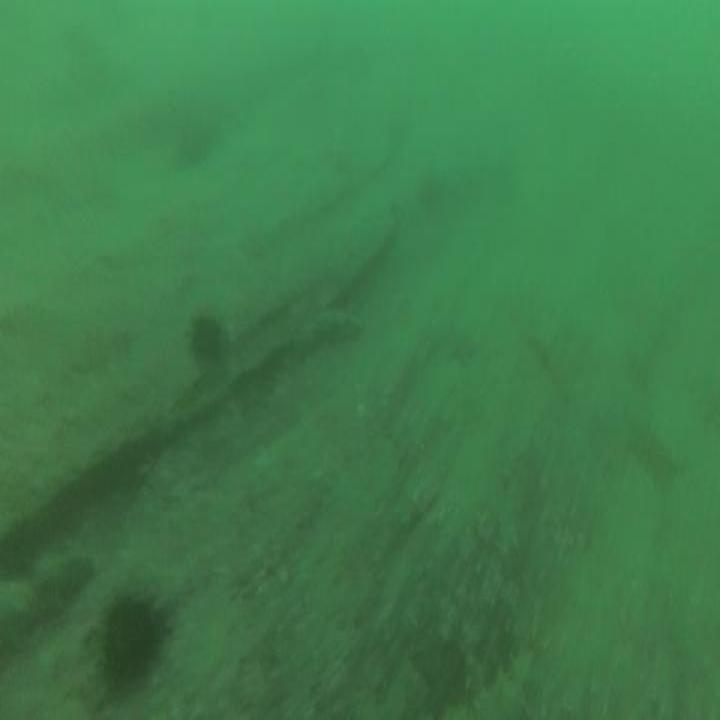echinus: (104, 602, 156, 676), (189, 316, 219, 361)
